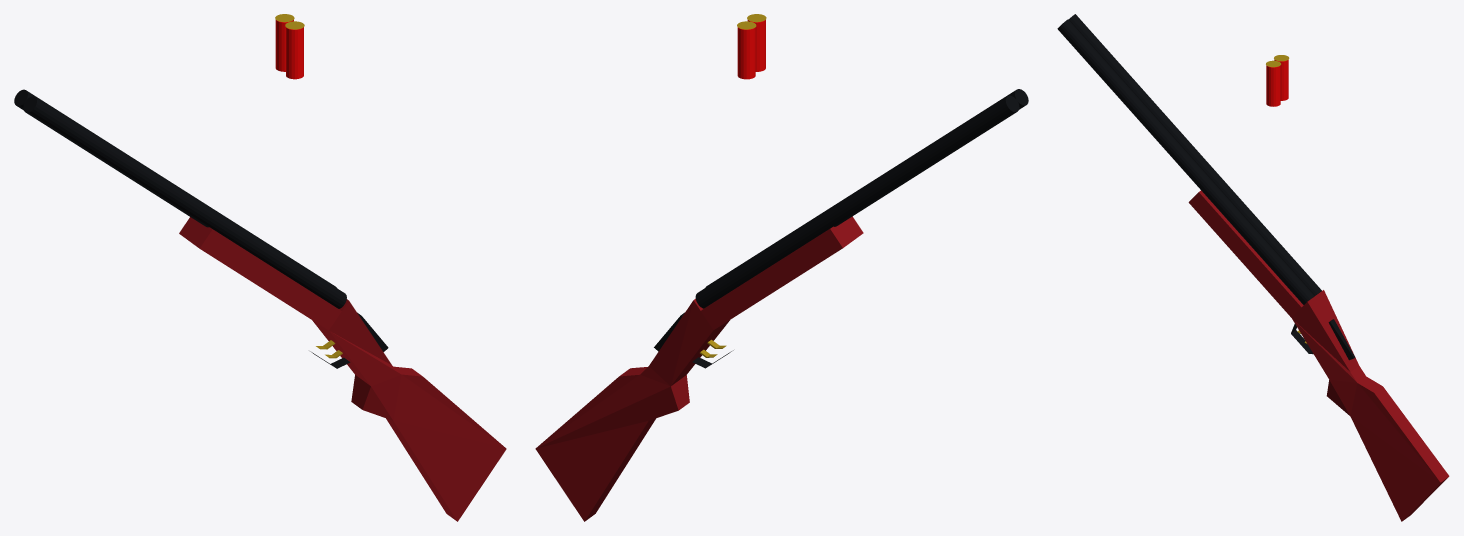
File: double-barreled-shotgun0004.obj
3 views of the same model, side by side, from view 1: azimuth 30°, elevation 25°; view 2: azimuth 150°, elevation 25°; view 3: azimuth 330°, elevation 25° (orthographic). The views are drawn at different scales.
Parts seen in each view (by area): view 1: rearStock, leftBarrel, foreGrip, shellPlastic, rightBarrel, shellPlastic2; view 2: rearStock, rightBarrel, foreGrip, shellPlastic2, leftBarrel; view 3: rearStock, leftBarrel, rightBarrel, foreGrip, shellPlastic.
Part boxes in pixels (left/top/right/bottom): rearStock: left=312, top=299, right=506, bottom=521; leftBarrel: left=23, top=96, right=346, bottom=308; foreGrip: left=179, top=217, right=341, bottom=330; shellPlastic: left=286, top=27, right=303, bottom=79; rightBarrel: left=14, top=89, right=336, bottom=287; shellPlastic2: left=275, top=20, right=293, bottom=71; rearStock: left=535, top=299, right=729, bottom=521; rightBarrel: left=695, top=95, right=1019, bottom=308; foreGrip: left=701, top=216, right=863, bottom=329; shellPlastic2: left=737, top=27, right=755, bottom=79; leftBarrel: left=705, top=89, right=1028, bottom=287; rearStock: left=1291, top=290, right=1449, bottom=521; leftBarrel: left=1057, top=19, right=1314, bottom=304; rightBarrel: left=1068, top=14, right=1321, bottom=295; foreGrip: left=1188, top=190, right=1303, bottom=317; shellPlastic: left=1266, top=65, right=1280, bottom=106.
Size of the model in its own units: 2.75 by 2.93 by 0.2057.
